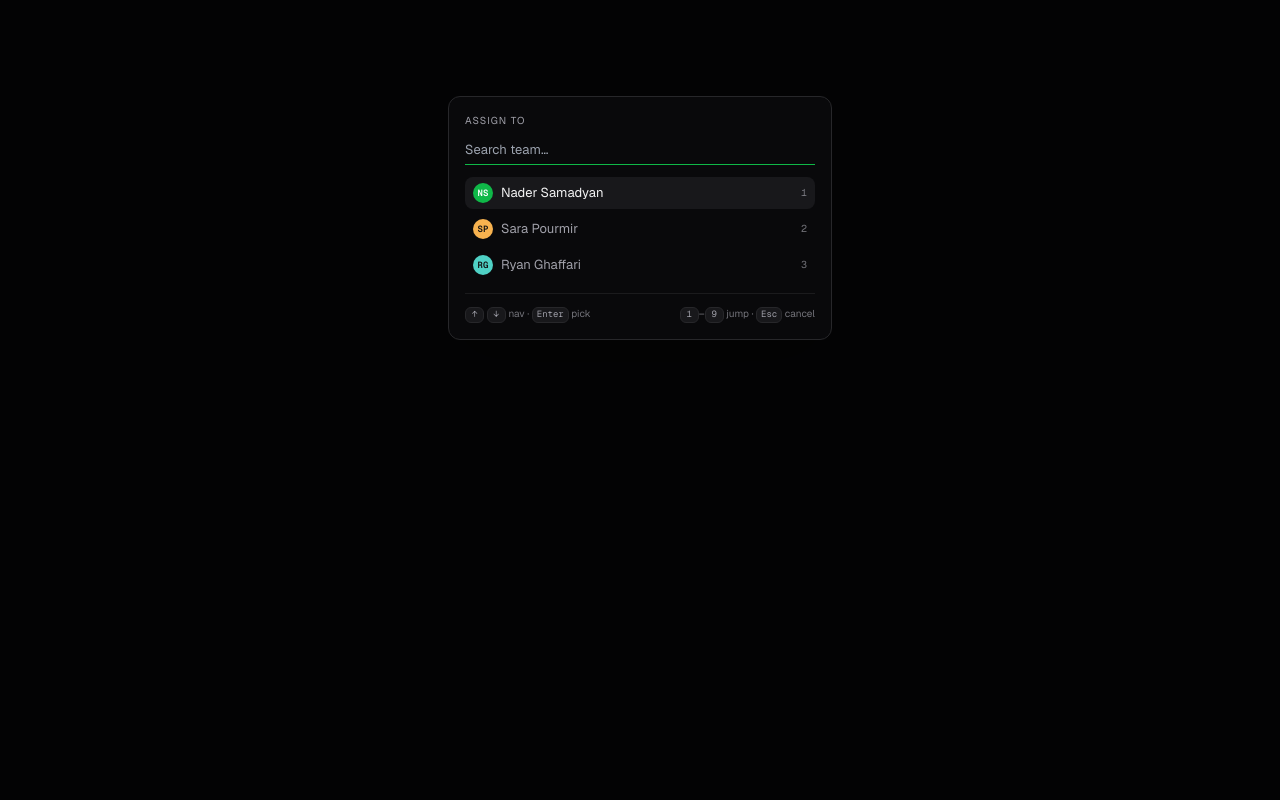
Test: AssigneePickerModal › filters by email as well as displayName
The width and height of the screenshot is (1280, 800).
Step 1. Type "ryan@omnirev" into the field with placeholder "Search team…" → (640, 150), box [465, 136, 815, 165]
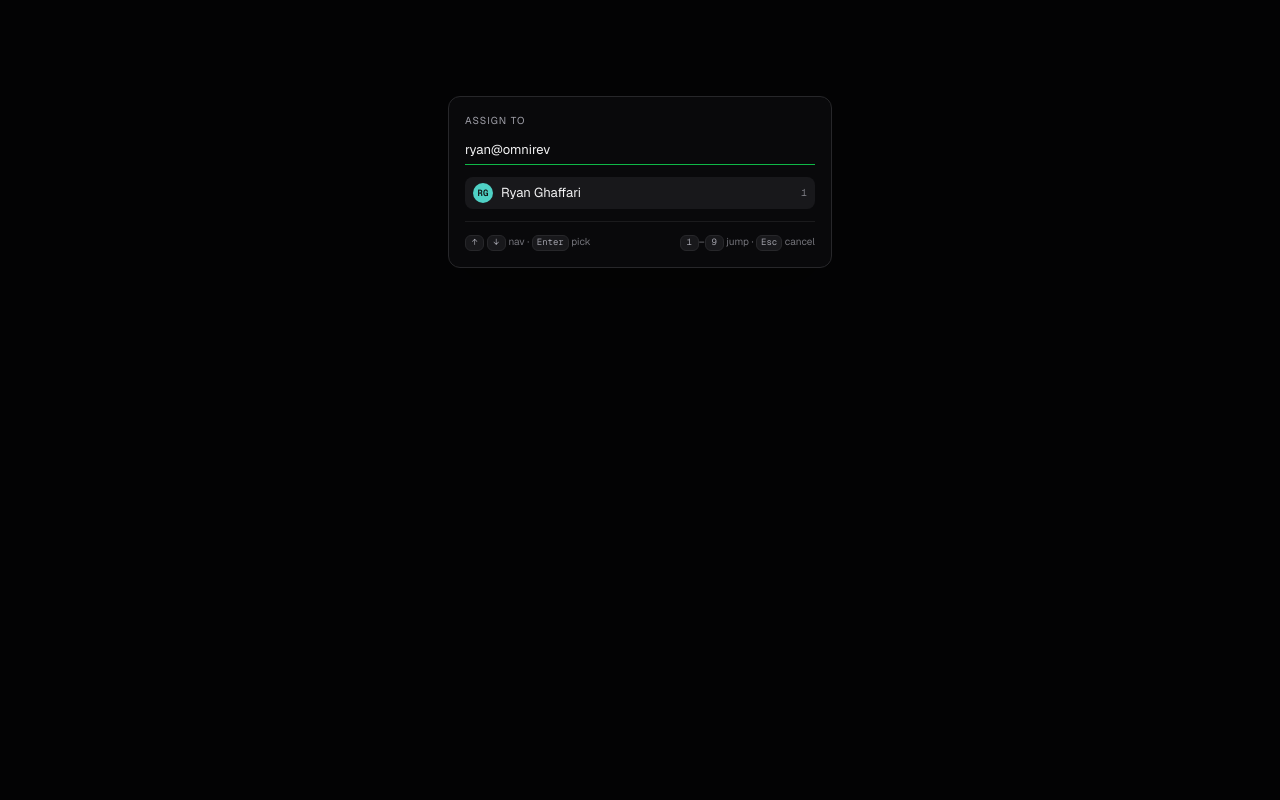
Check: the text "Ryan Ghaffari" is shown, box [501, 183, 581, 203]
Check: the text "Nader Samadyan" is gone
